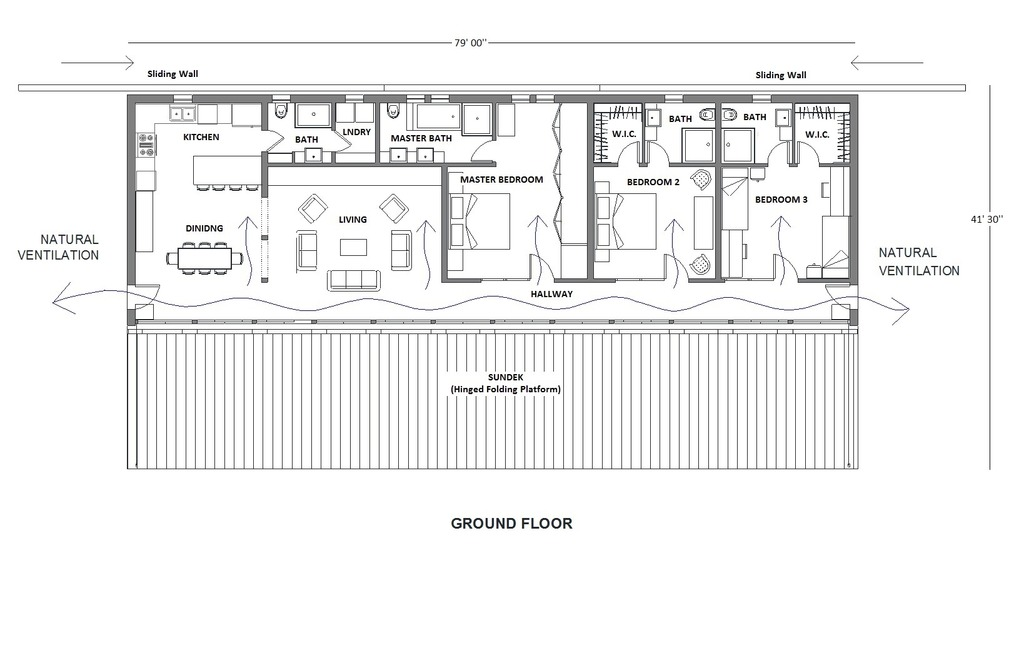bed: (446, 193, 515, 254), (593, 190, 657, 251), (821, 212, 854, 280), (722, 164, 753, 232)
dining_table: (163, 239, 246, 281)
door: (644, 138, 675, 170), (329, 129, 357, 155), (794, 138, 818, 165), (768, 140, 792, 166), (616, 142, 639, 168), (262, 128, 286, 149)
kitchen_bar: (190, 152, 264, 193)
large_sink: (272, 99, 291, 122), (382, 101, 405, 120), (697, 106, 717, 124), (721, 105, 740, 121)
large_sofa: (324, 268, 381, 294), (293, 230, 319, 272), (391, 229, 414, 272), (696, 104, 716, 122)
small_sofa: (295, 192, 327, 223), (378, 192, 409, 223)
tub: (409, 105, 461, 130)
twin_sink: (169, 103, 201, 122)
windows: (404, 92, 459, 104), (511, 92, 564, 104), (748, 92, 773, 107), (661, 93, 688, 102)
